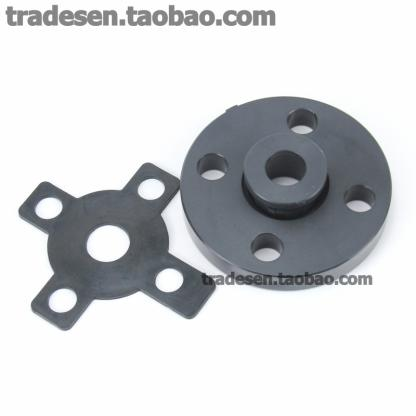FOD: (176, 91, 394, 292)
